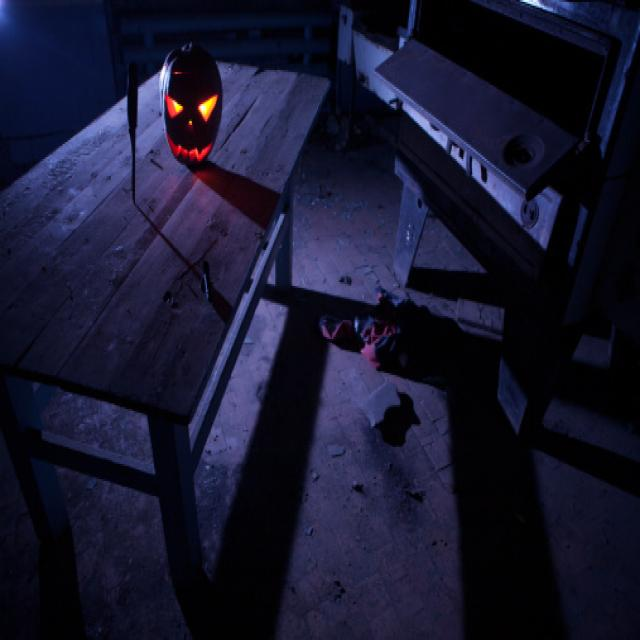Table: (0, 30, 343, 590)
